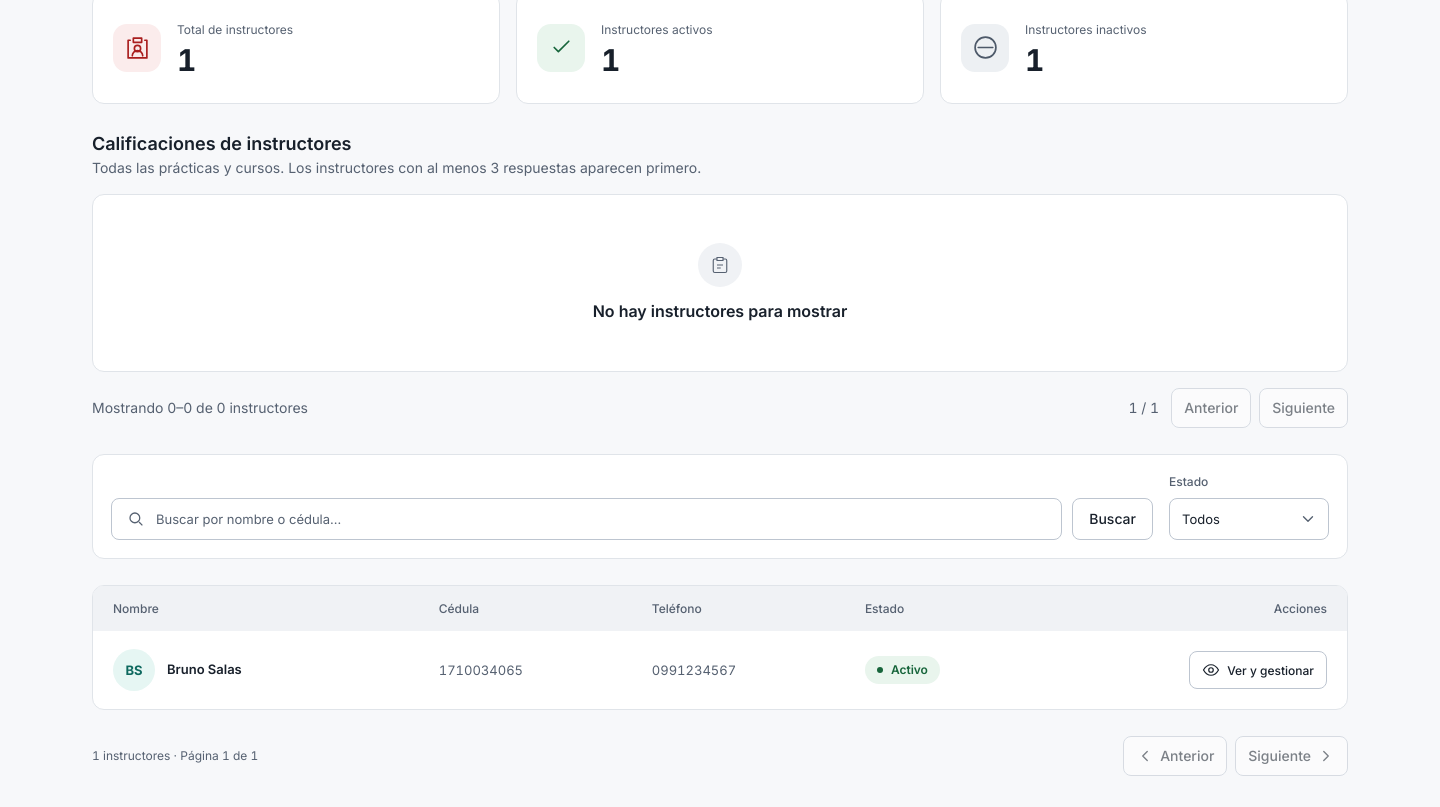
Test case: InstructorsPage › confirma el restablecimiento de un instructor activo y muestra el éxito sin clave
(page scrolled)
Click the button "Ver y gestionar" at (1258, 670), box [1189,651,1327,689]
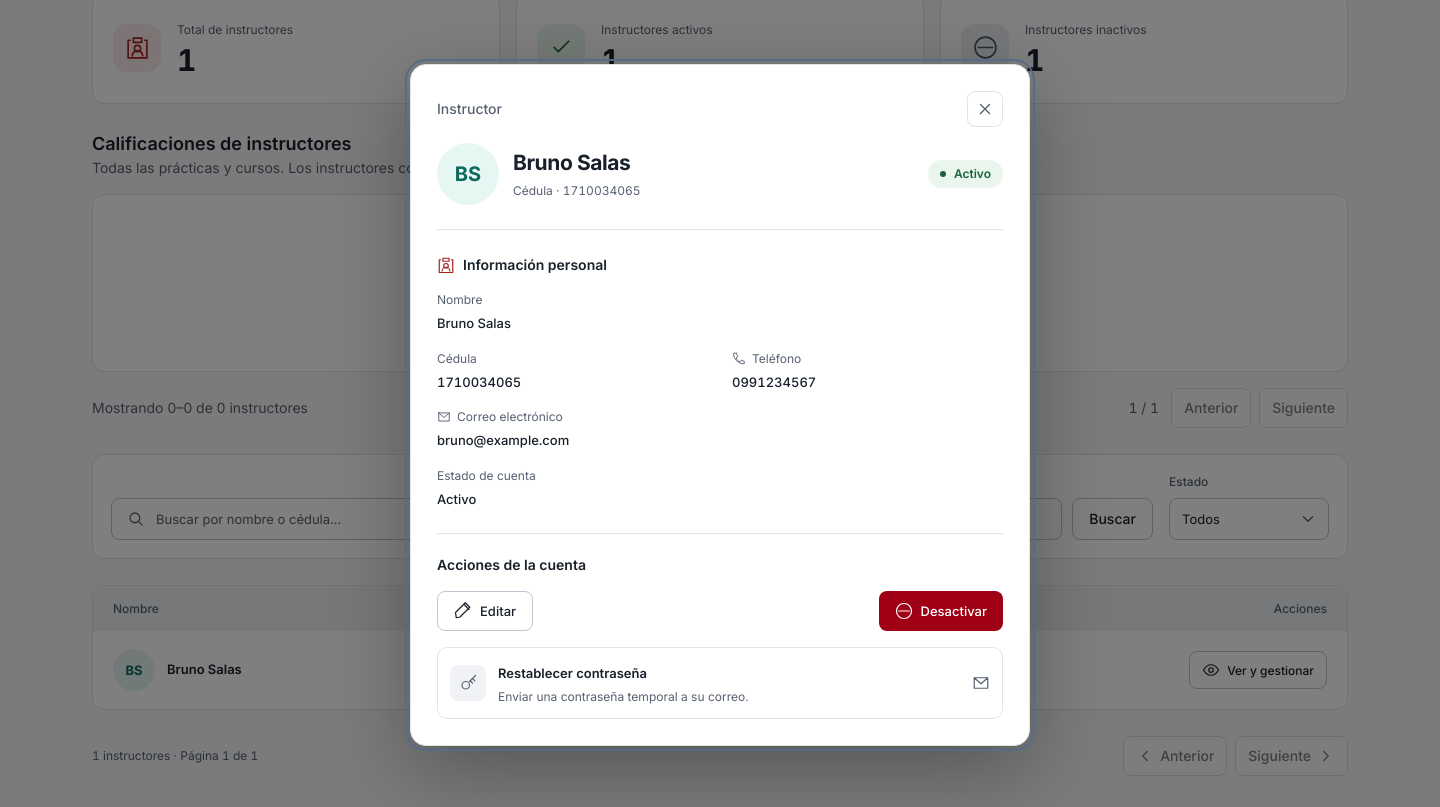
Click the button "Restablecer contraseña" at (468, 683), box [437,647,1003,719]
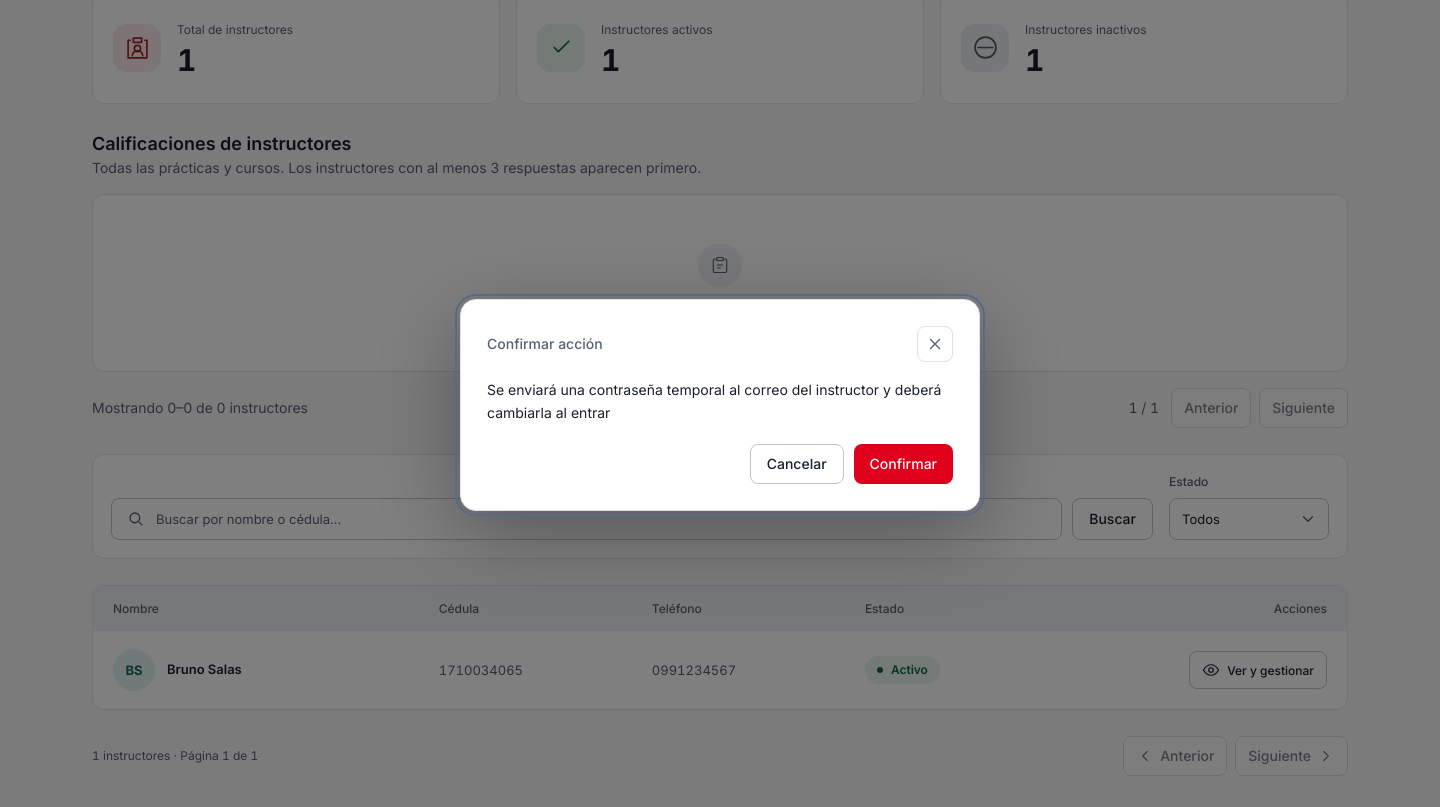
expect the text "Se enviará una contraseña temporal al correo del instructor y deberá cambiarla al entrar" is shown: met, box [487,381,942,421]
Click the button "Confirmar" at (903, 464), box [854,444,953,484]
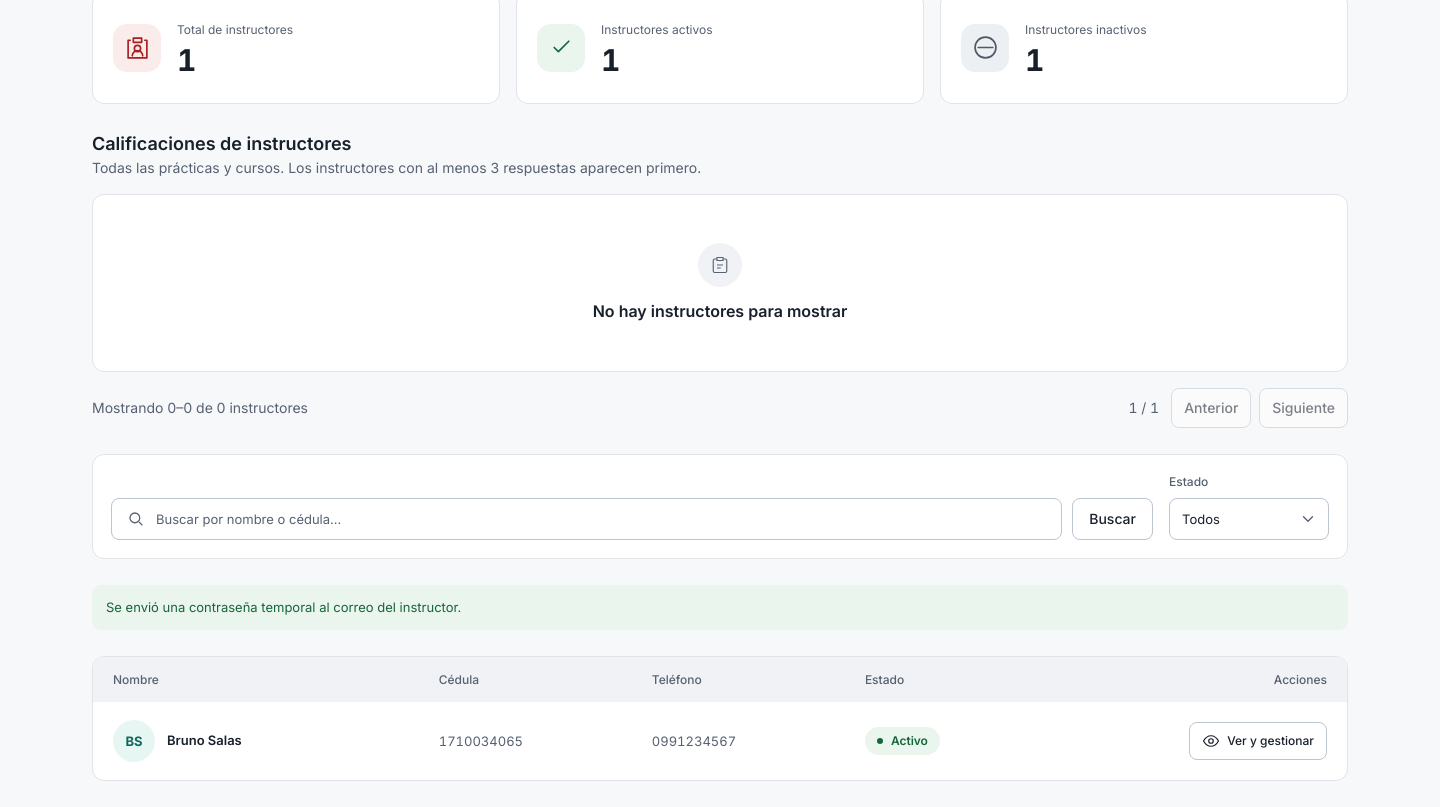
expect the message reads "Se envió una contraseña temporal al correo del instructor.": met, box [106,599,461,615]
